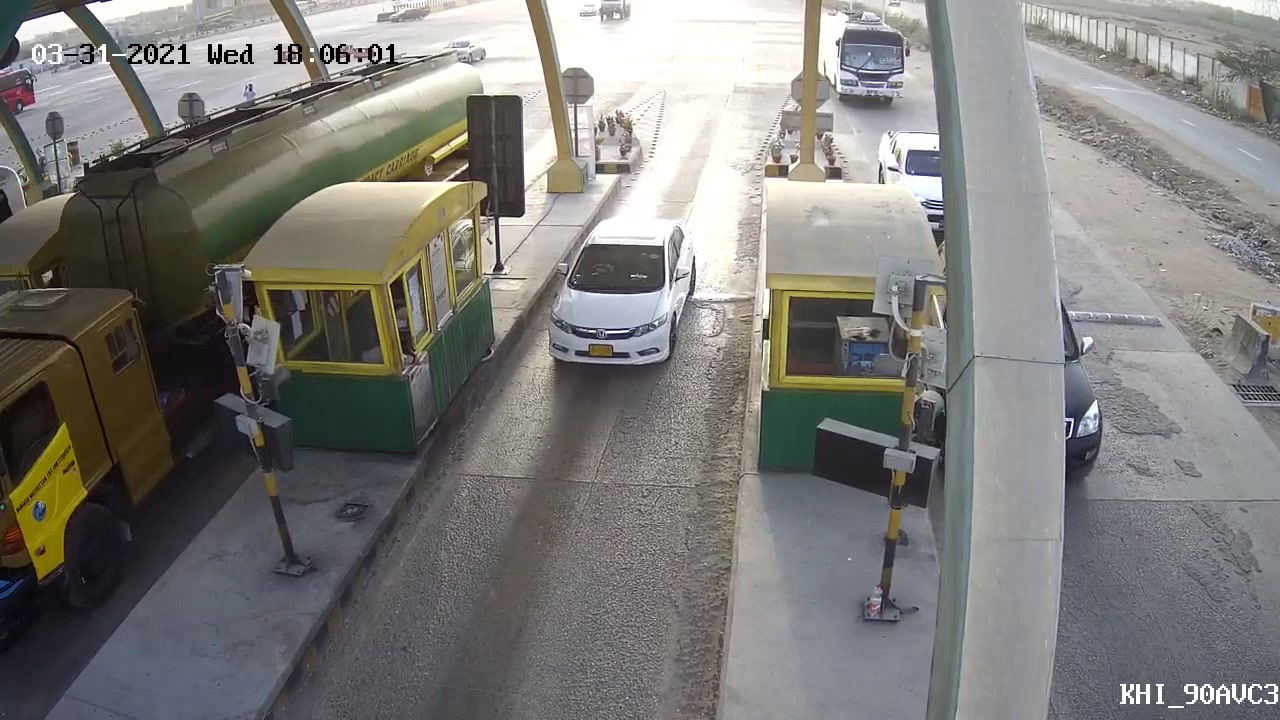F1: (539, 215, 706, 375)
